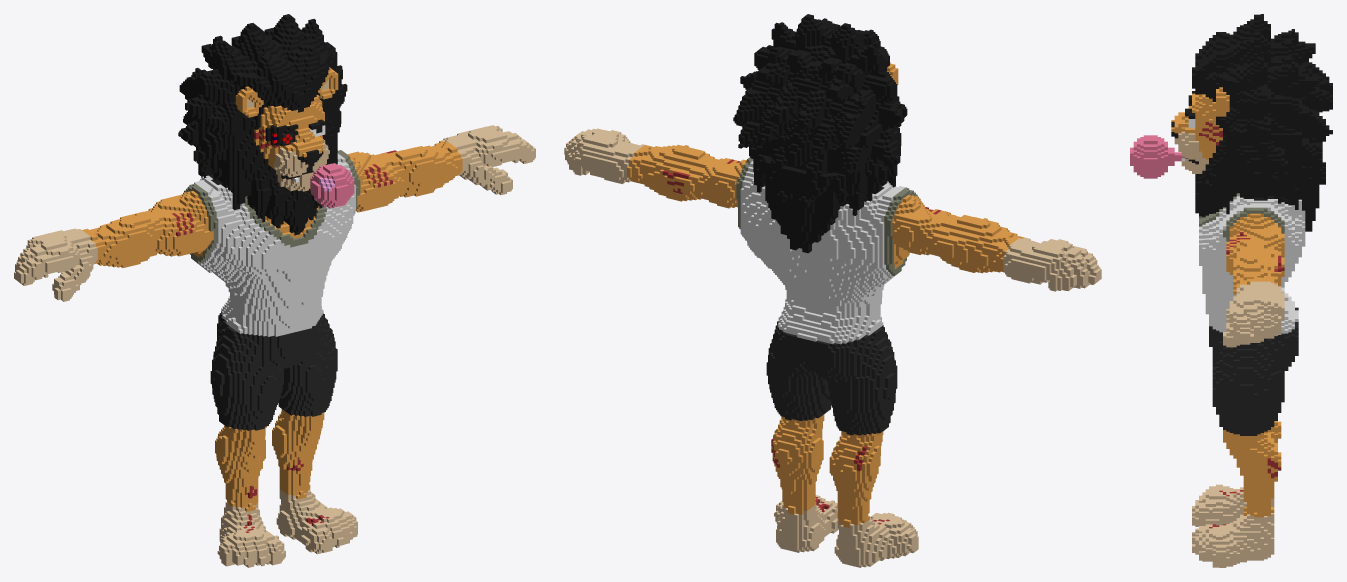
The model's file is 894-d0AVHzLb.glb.
3 views of the same model, side by side, from view 1: azimuth 30°, elevation 25°; view 2: azimuth 150°, elevation 25°; view 3: azimuth 270°, elevation 25° (orthographic). The views are drawn at different scales.
Visible parts, largest first — view 1: bubble_gum; view 2: bubble_gum; view 3: bubble_gum.
Boxes of the visible parts, bbox=[...] form: bubble_gum: bbox=[14, 14, 535, 567]; bubble_gum: bbox=[564, 14, 1101, 567]; bubble_gum: bbox=[1130, 14, 1332, 567].
Size of the model in its own units: 17.2 by 16.5 by 5.9.
5 materials, 5 textured.
